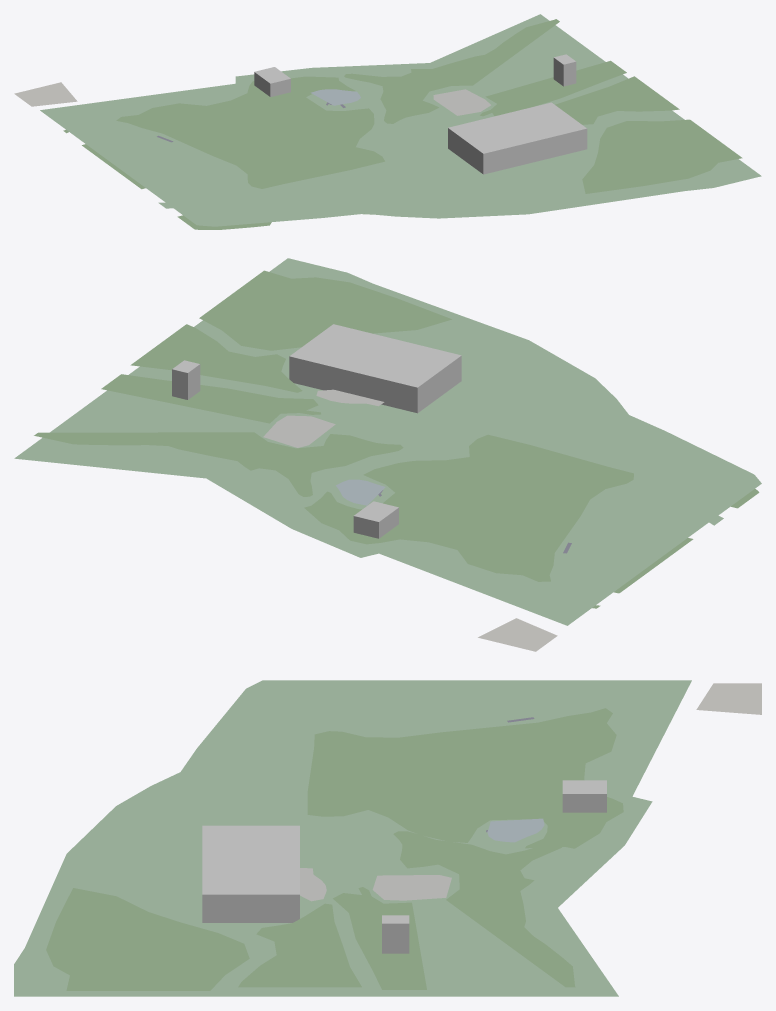
The model's file is 131_124_mid.glb.
3 views of the same model, one above another, from view 1: azimuth 30°, elevation 25°; view 2: azimuth 150°, elevation 25°; view 3: azimuth 270°, elevation 25° (orthographic). The views are drawn at different scales.
Bounding box in the file's own units: 500 × 34.46 × 500.
